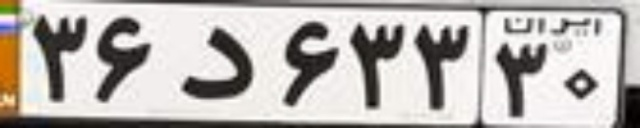0: (562, 68, 599, 100)
3: (29, 12, 85, 103), (413, 23, 468, 110), (491, 41, 550, 118), (350, 21, 401, 109)
6: (280, 19, 340, 106), (96, 16, 150, 103)
dal: (177, 26, 254, 101)
